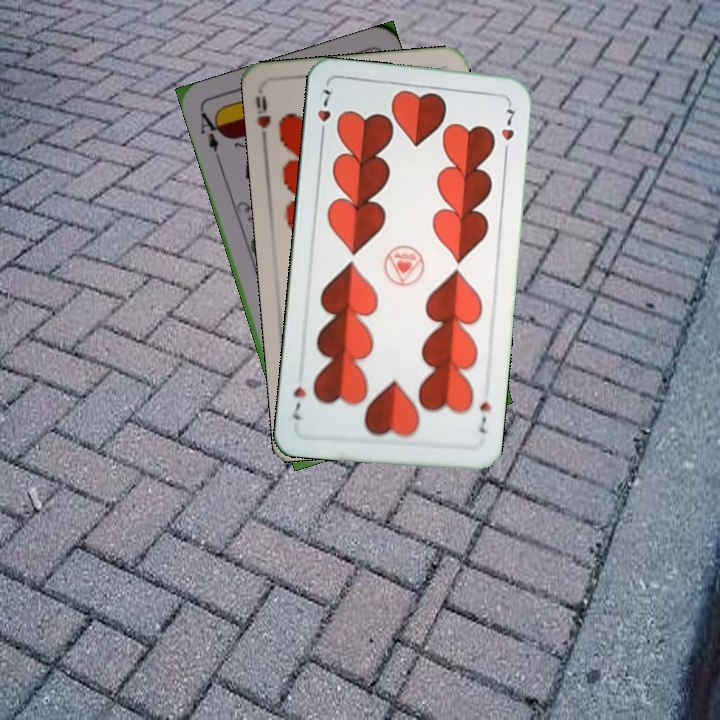EA: (196, 106, 225, 163)
H7: (313, 85, 334, 141), (475, 397, 493, 436)
H9: (251, 92, 274, 146)
